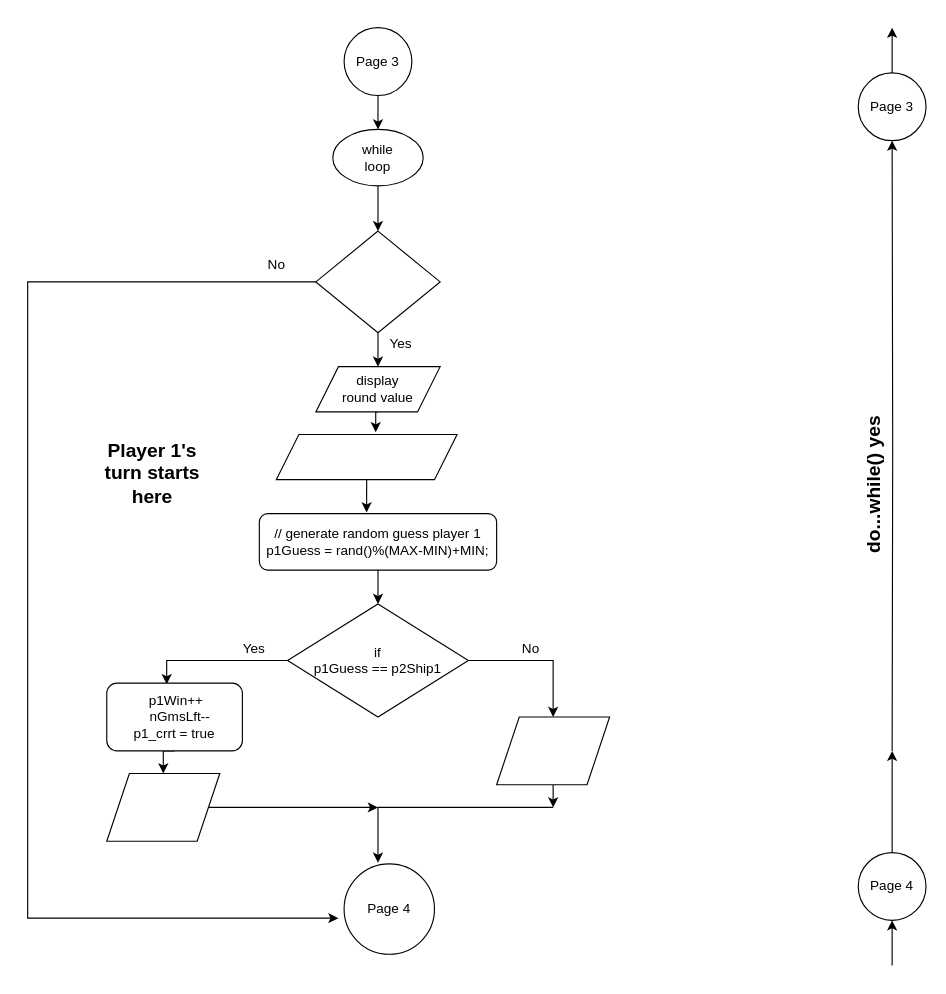
This 946x994 diagram has some shape labels left out. Each missing label, with the centre of its shape:
(!p1_crrt) && (!p2_crrt): point (377, 281)
display "It's a HIT!": point (163, 806)
display "It's a MISS!": point (553, 750)
display instructions to player 1: point (366, 456)
